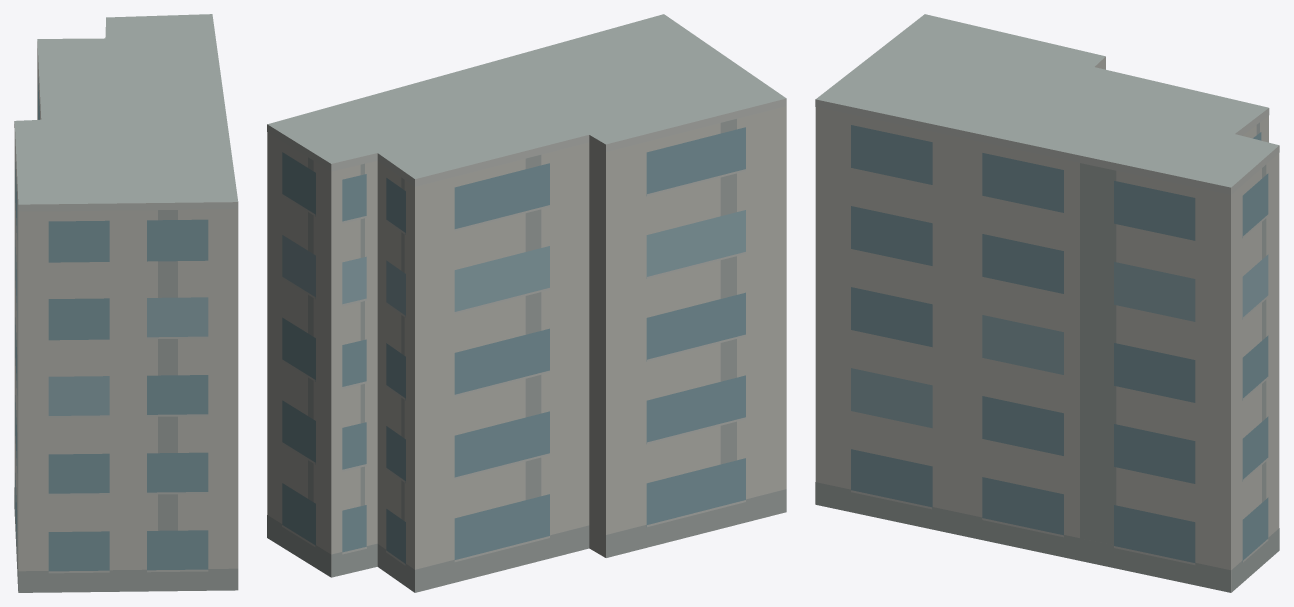
File: survey-upis-32729609.glb
The picture shows the model from 3 angles, left to right: view 1: azimuth 30°, elevation 25°; view 2: azimuth 150°, elevation 25°; view 3: azimuth 270°, elevation 25°; orthographic projection. The views are drawn at different scales.
Parts seen in each view (by area): view 1: survey-upis-32729609.tmp; view 2: survey-upis-32729609.tmp; view 3: survey-upis-32729609.tmp.
Part boxes in pixels (box(x1,y1,x2,y2)): survey-upis-32729609.tmp: box(14, 14, 238, 592); survey-upis-32729609.tmp: box(267, 14, 786, 592); survey-upis-32729609.tmp: box(815, 14, 1279, 592).
Size of the model in its own units: 12.13 by 13.2 by 13.71.
